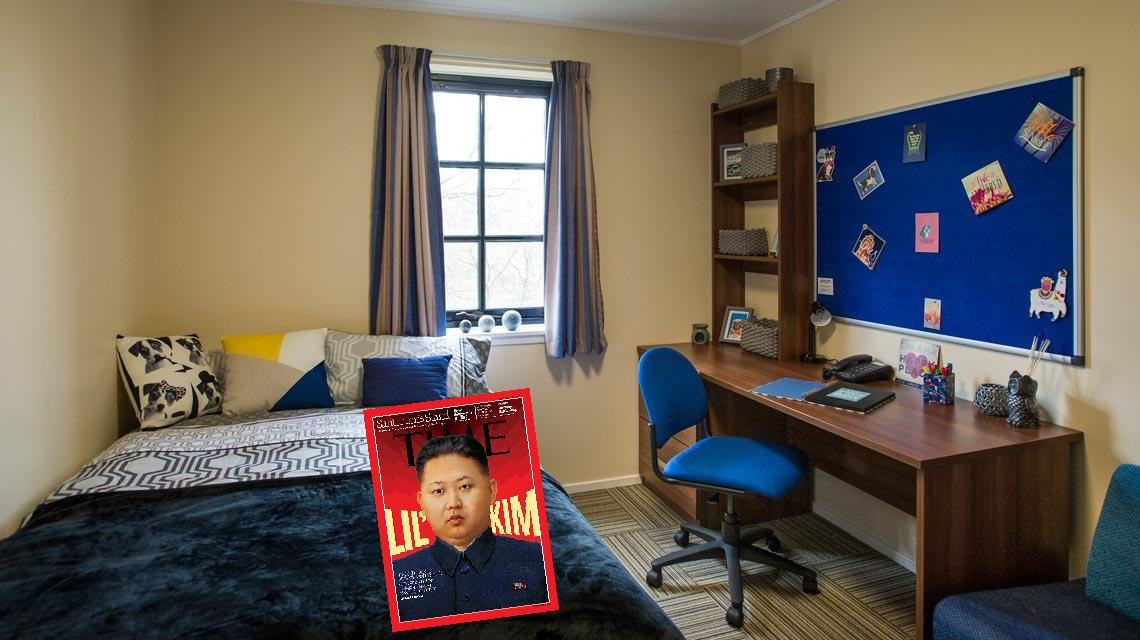times: (361, 385, 565, 629)
